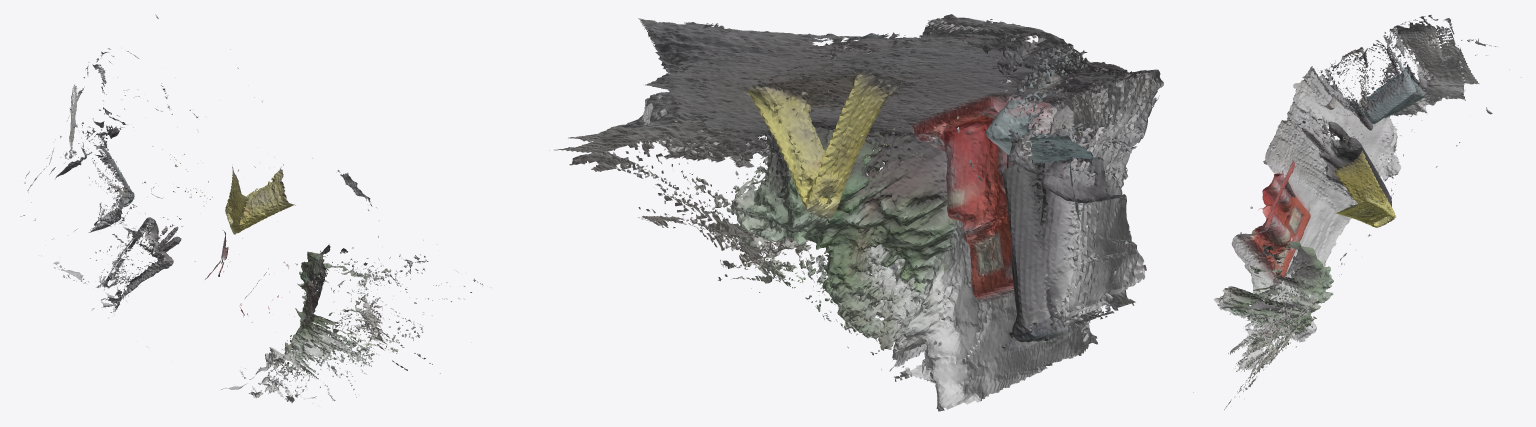
File: 7scenes_file_agent4.glb
The picture shows the model from 3 angles, left to right: view 1: azimuth 30°, elevation 25°; view 2: azimuth 150°, elevation 25°; view 3: azimuth 270°, elevation 25°; orthographic projection. The views are drawn at different scales.
Parts seen in each view (by area): view 1: world; view 2: world; view 3: world.
Boxes of the visible parts, <box> form: world: <box>20,14,491,406</box>; world: <box>549,14,1163,411</box>; world: <box>1193,15,1521,409</box>.
Bounding box in the file's own units: 3.47 × 2.48 × 2.56.
